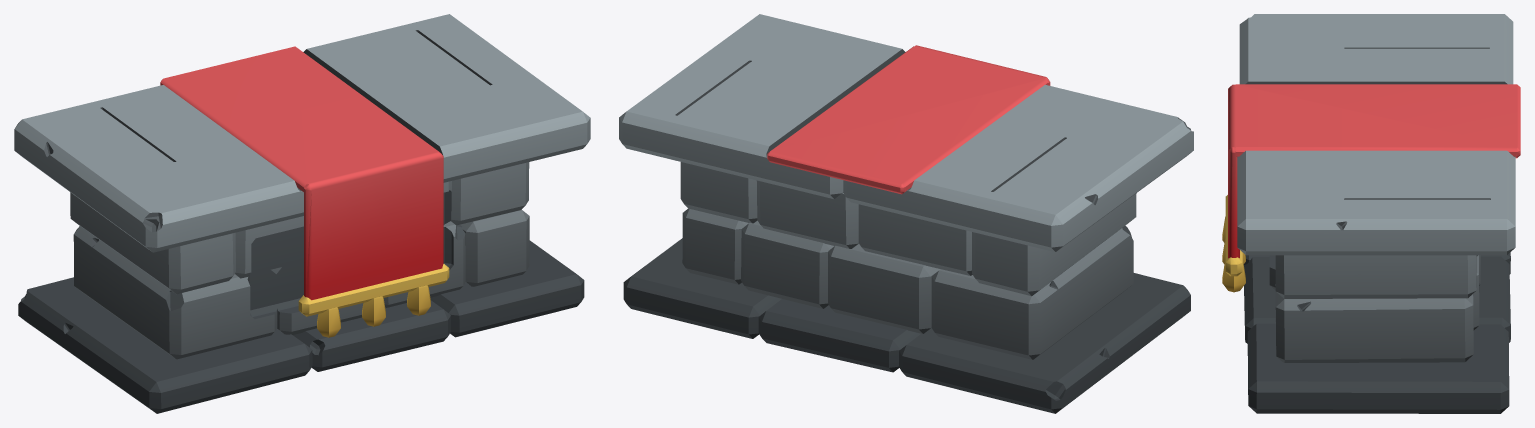
Rendered from altar_stone.glb.
3 renders of one model, left to right at view 1: azimuth 30°, elevation 25°; view 2: azimuth 150°, elevation 25°; view 3: azimuth 270°, elevation 25°, orthographic. The views are drawn at different scales.
Parts seen in each view (by area): view 1: altar_stone; view 2: altar_stone; view 3: altar_stone.
Boxes of the visible parts, x1=… form: altar_stone: x1=14, y1=14, x2=590, y2=413; altar_stone: x1=619, y1=14, x2=1193, y2=413; altar_stone: x1=1222, y1=14, x2=1520, y2=413.
Bounding box in the file's own units: 2.96 × 1.28 × 1.76.
1 material, 1 textured.
